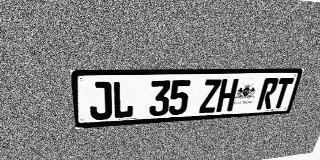3: (149, 80, 171, 117)
5: (168, 80, 191, 115)
H: (216, 79, 239, 112)
J: (88, 81, 112, 120)
L: (112, 81, 134, 119)
R: (256, 78, 280, 110)
T: (271, 78, 294, 109)
Z: (199, 79, 222, 113)
